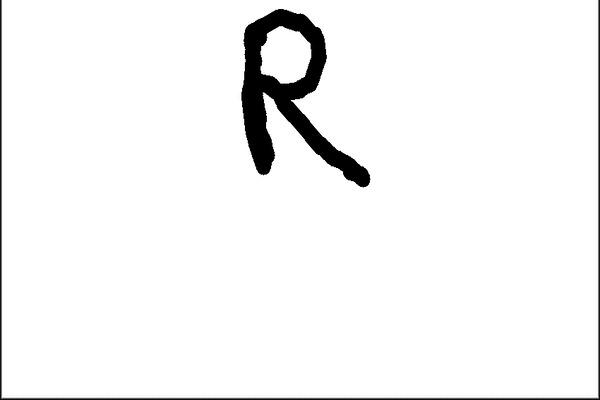R: (234, 1, 379, 189)
